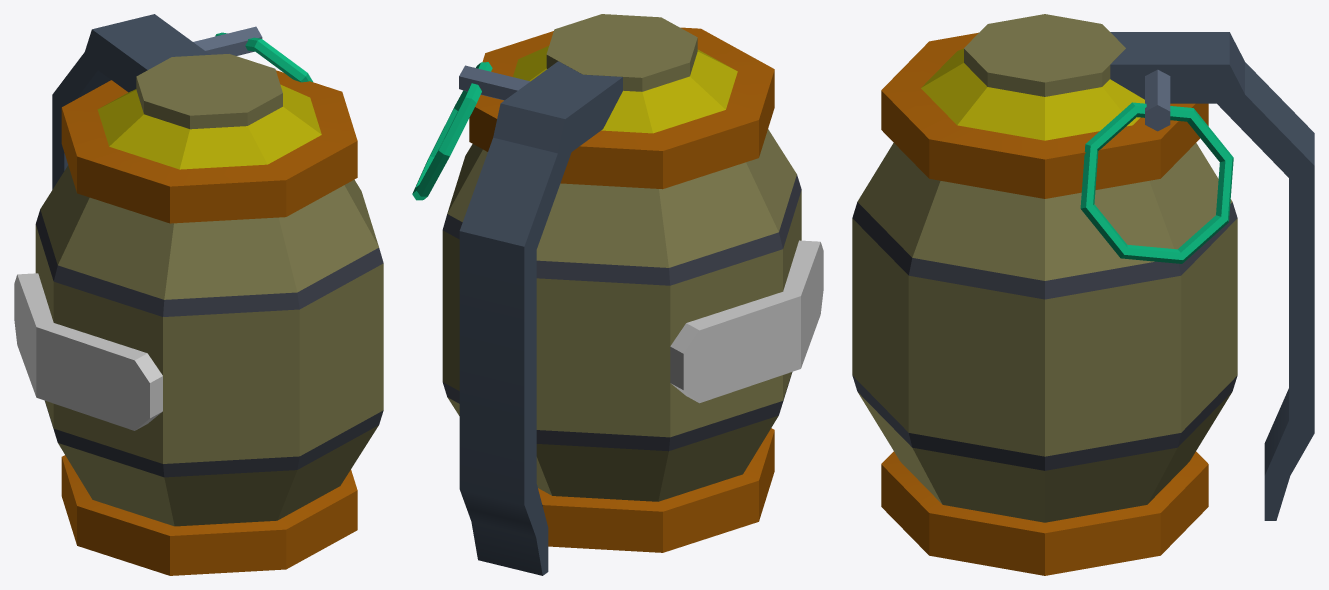
File: grenade.fbx
The picture shows the model from 3 angles, left to right: view 1: azimuth 30°, elevation 25°; view 2: azimuth 150°, elevation 25°; view 3: azimuth 270°, elevation 25°; orthographic projection. The views are drawn at different scales.
Parts seen in each view (by area): view 1: grenade; view 2: grenade; view 3: grenade.
Boxes of the visible parts, x1=… form: grenade: x1=14, y1=14, x2=383, y2=575; grenade: x1=412, y1=14, x2=823, y2=575; grenade: x1=852, y1=14, x2=1314, y2=575.
Bounding box in the file's own units: 2.11 × 2.75 × 2.4.
